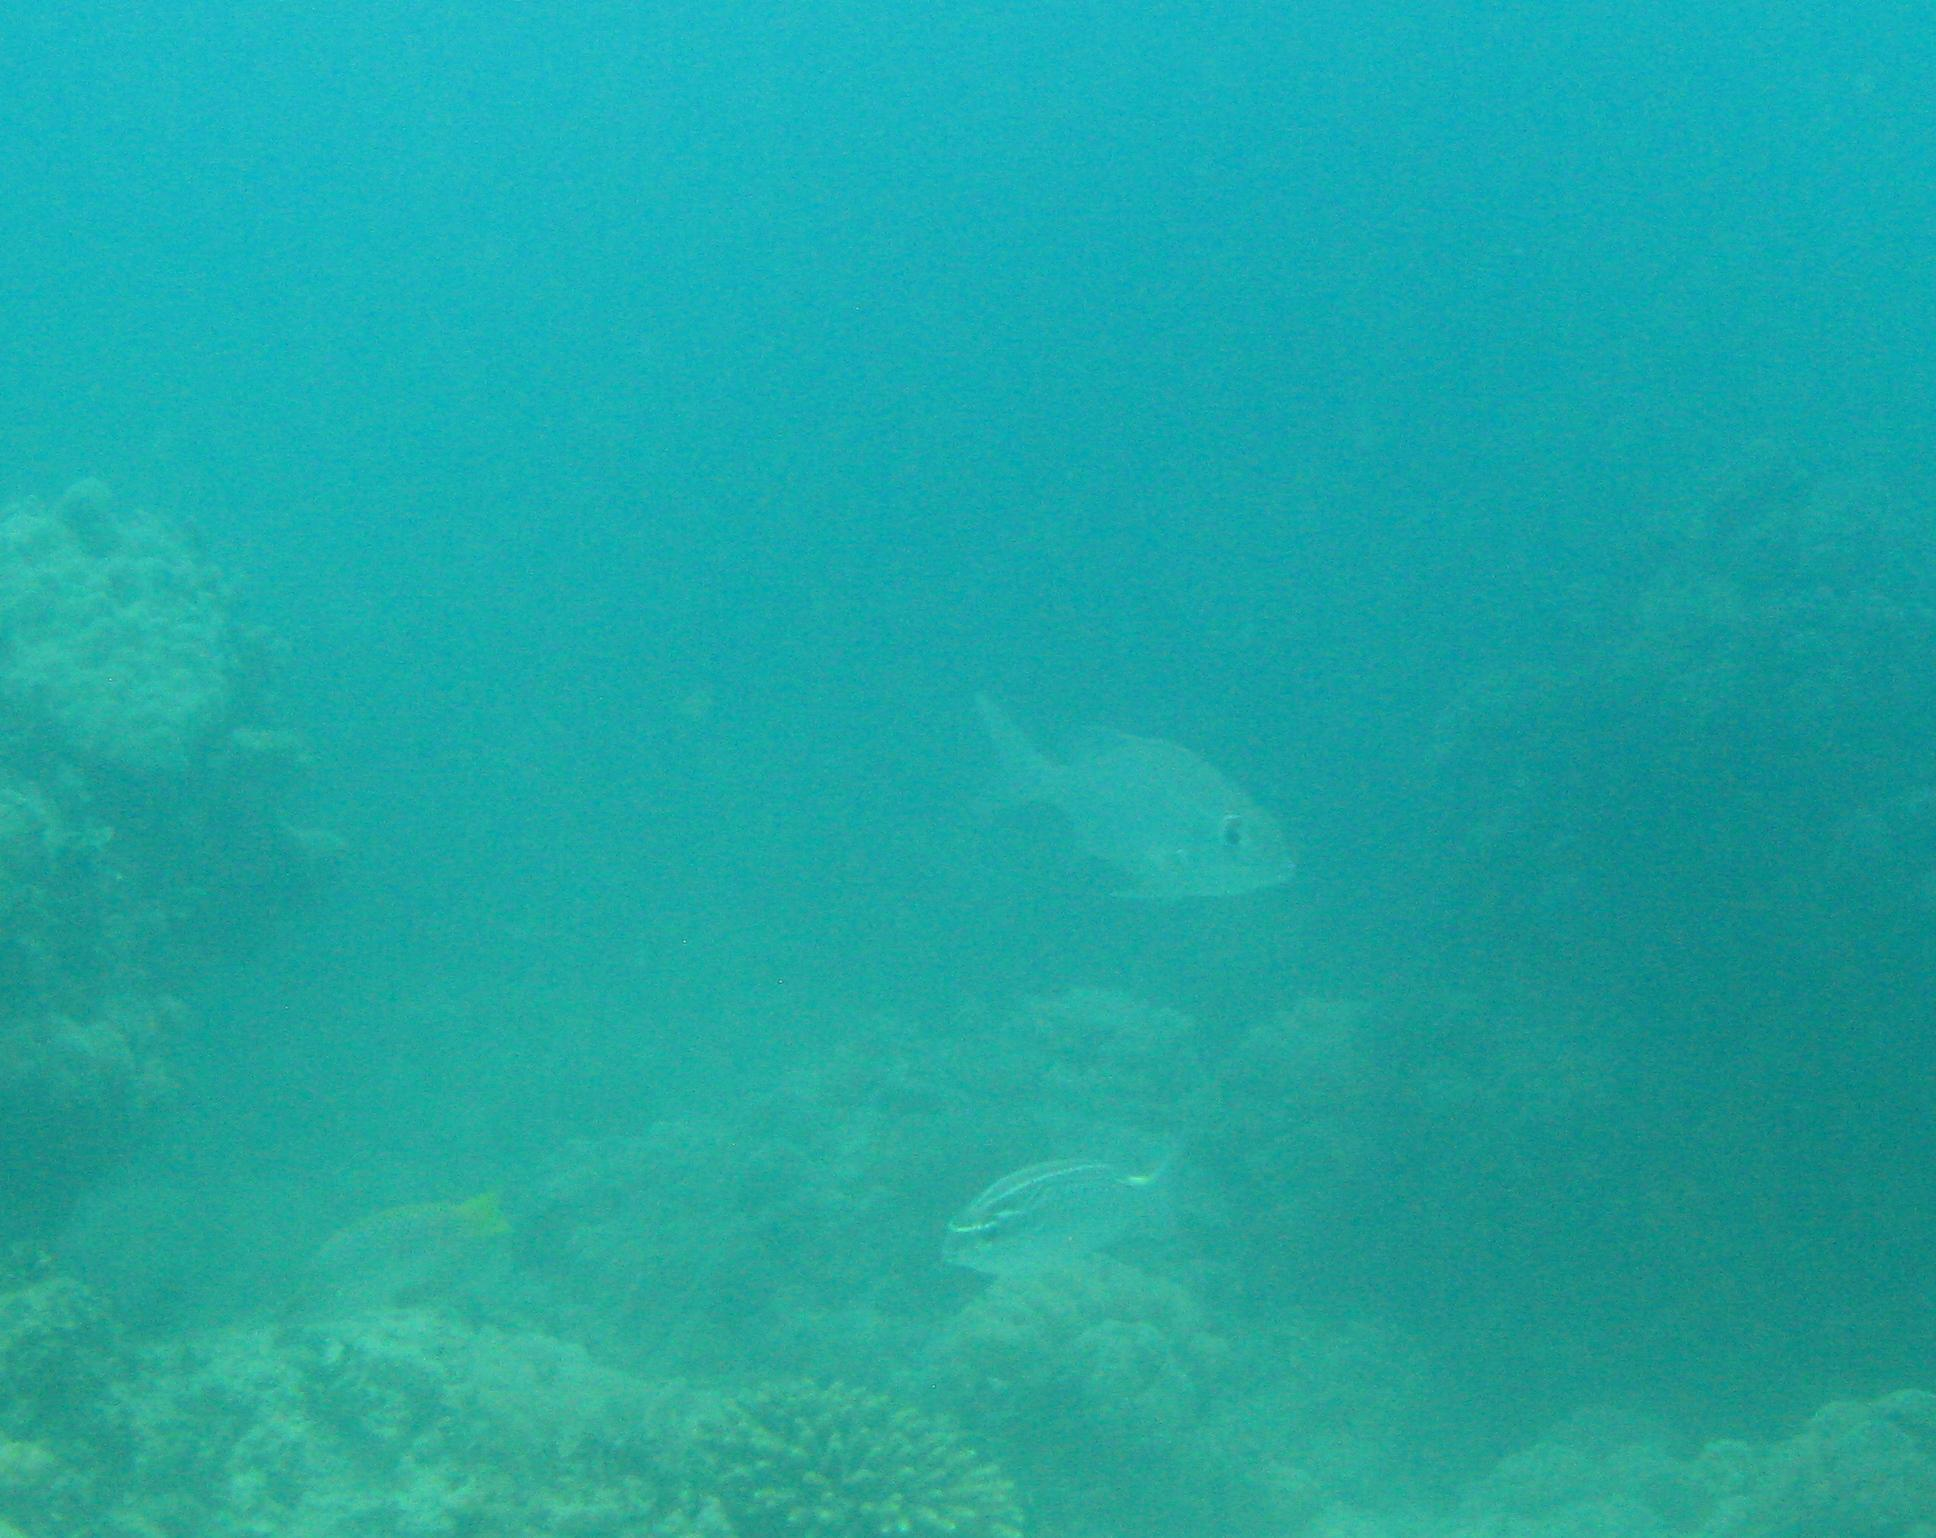Fish: (957, 660, 1323, 938)
